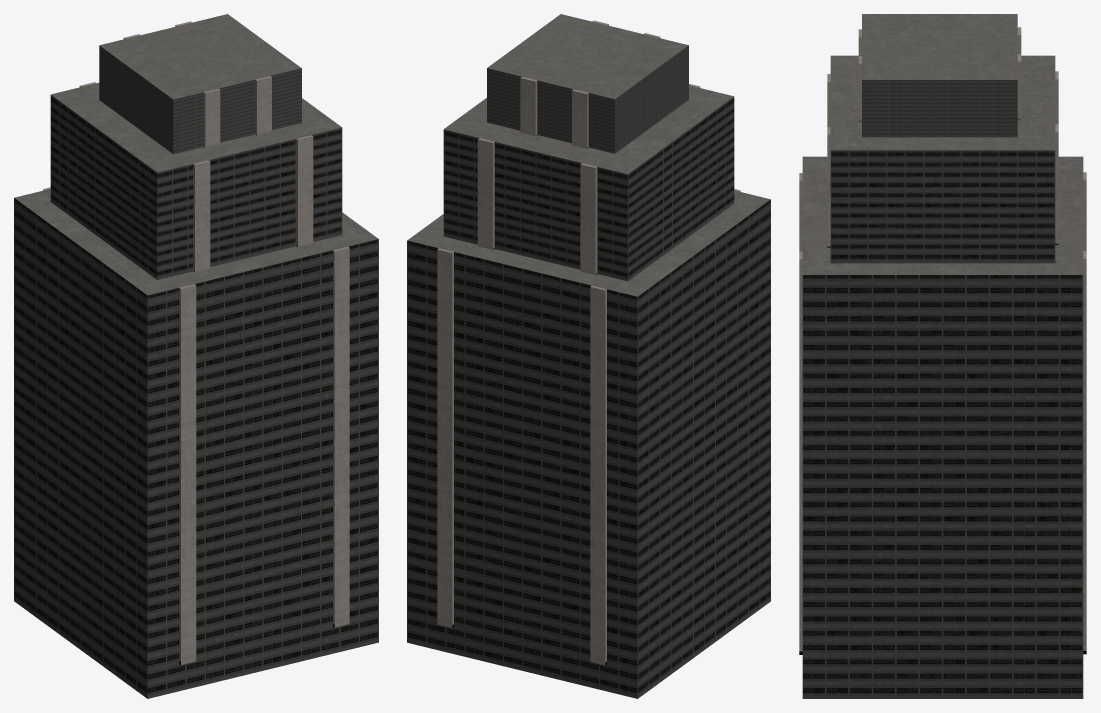
The model's file is PredioLP 1 .fbx.
3 views of the same model, side by side, from view 1: azimuth 30°, elevation 25°; view 2: azimuth 150°, elevation 25°; view 3: azimuth 270°, elevation 25° (orthographic). The views are drawn at different scales.
Parts seen in each view (by area): view 1: Prédio_1_LP; view 2: Prédio_1_LP; view 3: Prédio_1_LP.
Boxes of the visible parts, bbox=[...] form: Prédio_1_LP: bbox=[14, 14, 378, 698]; Prédio_1_LP: bbox=[407, 14, 770, 698]; Prédio_1_LP: bbox=[799, 14, 1086, 698].
Size of the model in its own units: 180 by 420 by 184.
